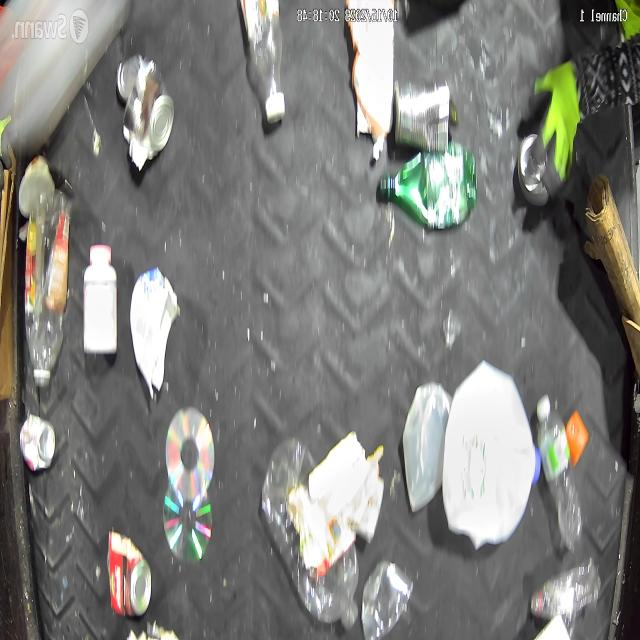can: (114, 52, 174, 183), (106, 522, 158, 621), (388, 79, 455, 155), (360, 553, 414, 639), (522, 129, 568, 198), (31, 406, 58, 479)
milk_jug: (440, 356, 542, 552), (400, 375, 455, 517)
plastic_bottle: (259, 439, 358, 640), (533, 387, 588, 558), (27, 190, 72, 391), (236, 0, 290, 134), (531, 550, 601, 629)
